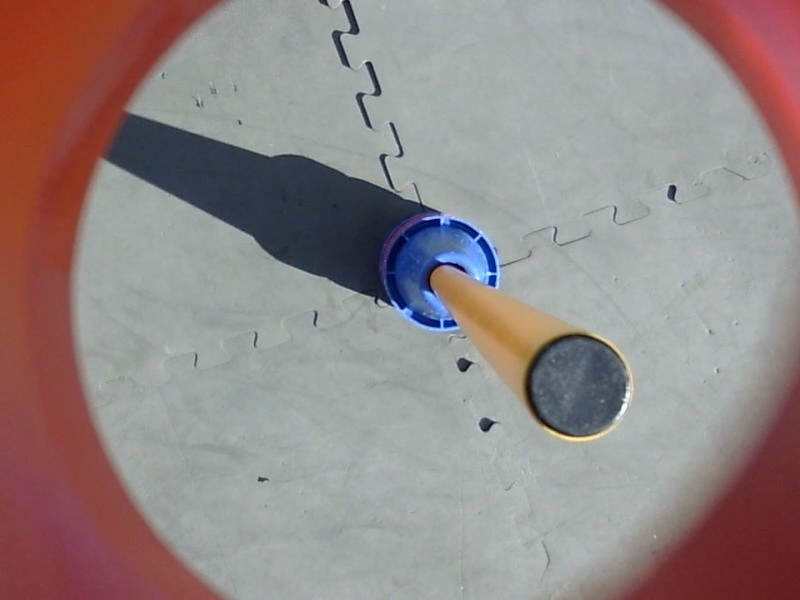tip: (516, 323, 639, 448)
